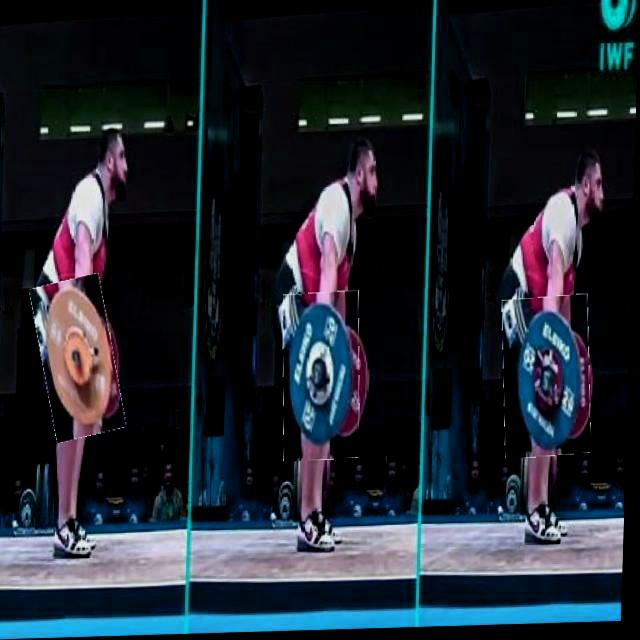barbell: (502, 298, 595, 462), (37, 277, 126, 442), (283, 293, 365, 464)
